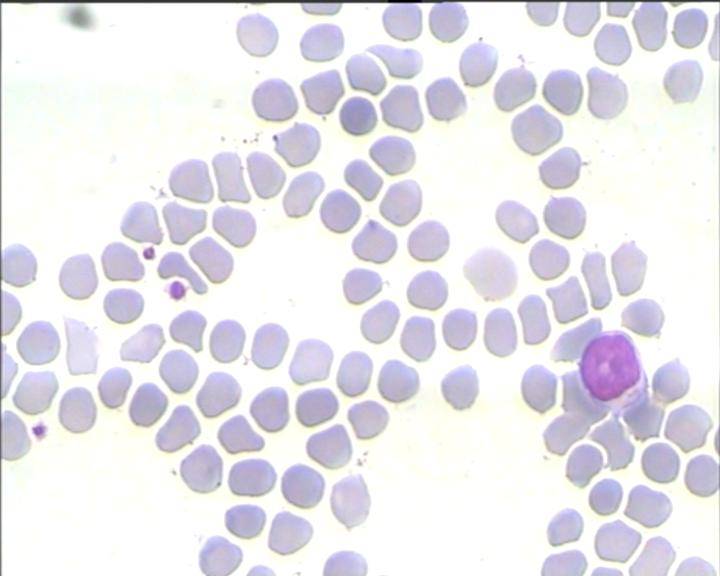lymp: (575, 328, 656, 412)
